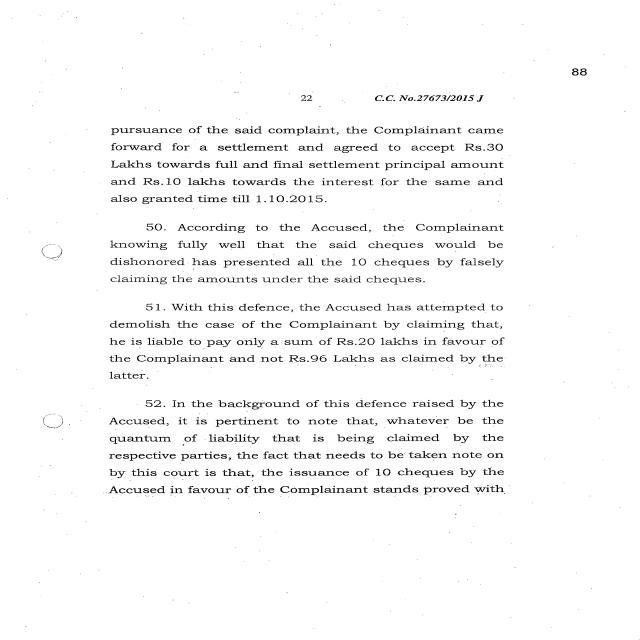page-number: (486, 34, 640, 121)
